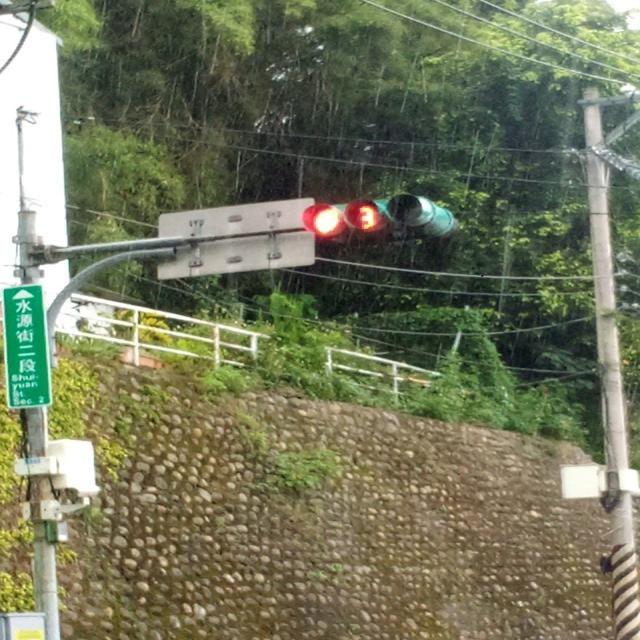red light: (302, 197, 454, 241)
